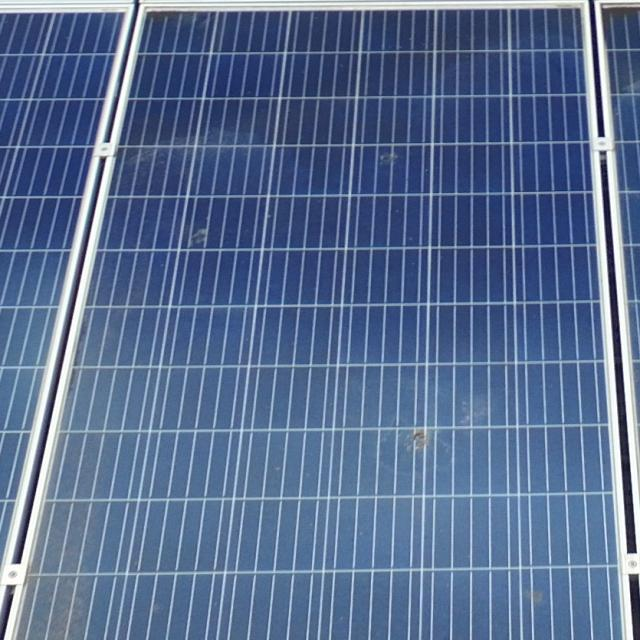Dust: (22, 445, 101, 640), (136, 0, 279, 60)
bird-droppings: (173, 223, 221, 253), (398, 422, 434, 456), (512, 584, 554, 610), (368, 146, 406, 168)
